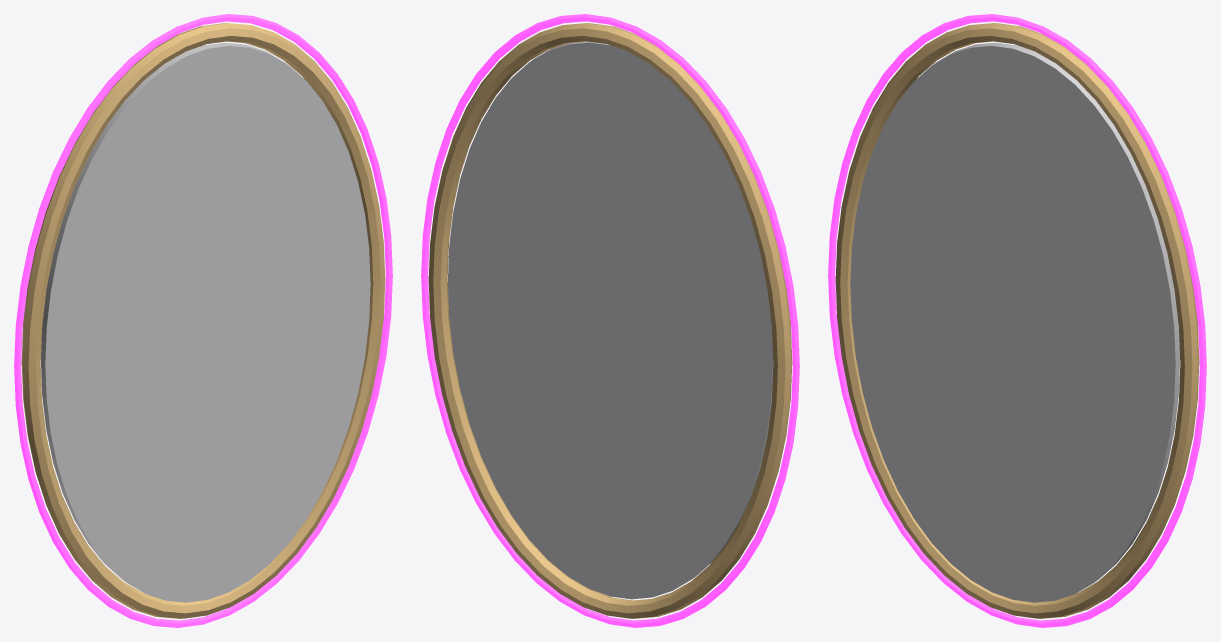
The model's file is KIT_Espelho_Neon.glb.
The picture shows the model from 3 angles, left to right: view 1: azimuth 30°, elevation 25°; view 2: azimuth 150°, elevation 25°; view 3: azimuth 330°, elevation 25°; orthographic projection.
Visible parts, largest first — view 1: KIT_Espelho_Neon; view 2: KIT_Espelho_Neon; view 3: KIT_Espelho_Neon.
Part boxes in pixels (left/top/right/bottom): KIT_Espelho_Neon: left=14, top=14, right=392, bottom=627; KIT_Espelho_Neon: left=421, top=14, right=799, bottom=627; KIT_Espelho_Neon: left=828, top=14, right=1206, bottom=627.
Size of the model in its own units: 0.978 by 1.5 by 0.044.
